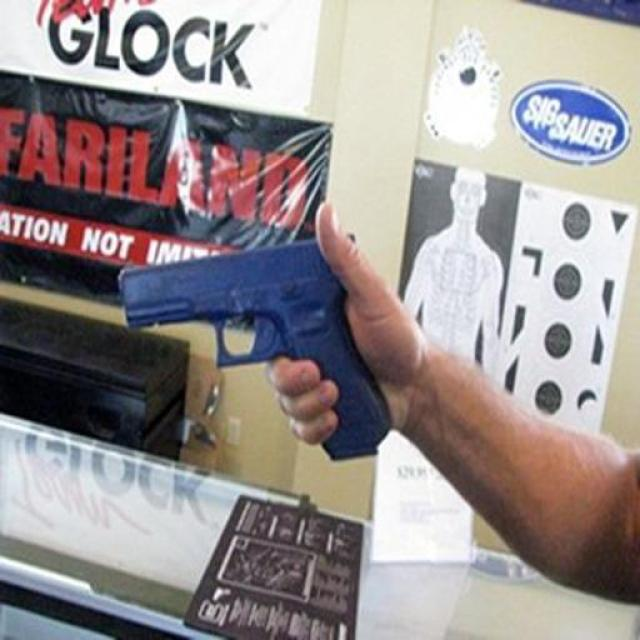pistol: (112, 245, 386, 462)
